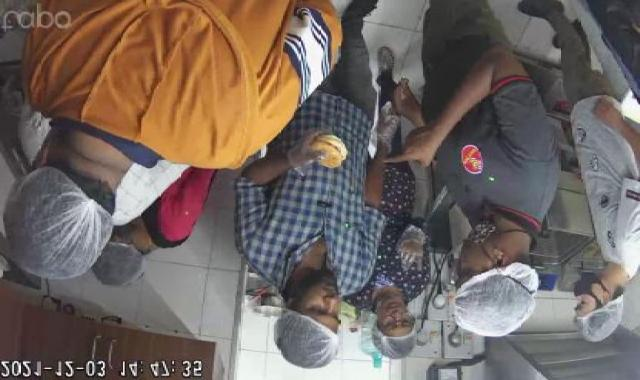hairnet: (3, 168, 117, 279), (450, 260, 547, 340), (252, 302, 343, 368), (566, 284, 634, 345), (361, 317, 429, 368), (99, 245, 158, 292)
